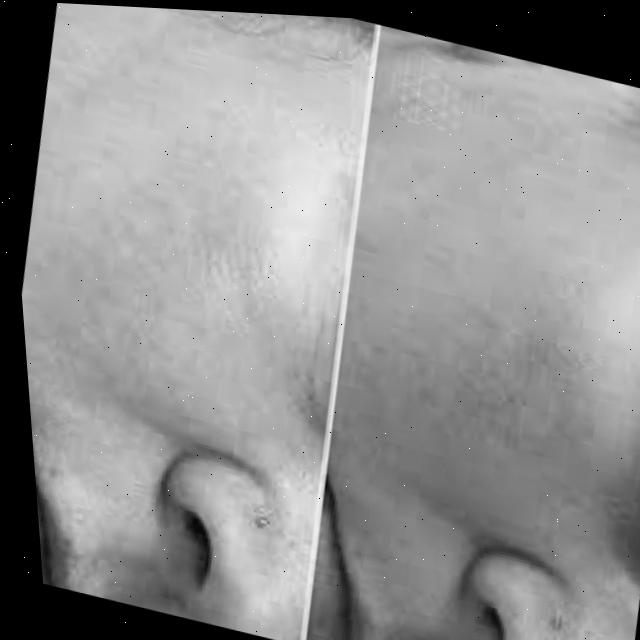Rosacea: (403, 281, 619, 505)
